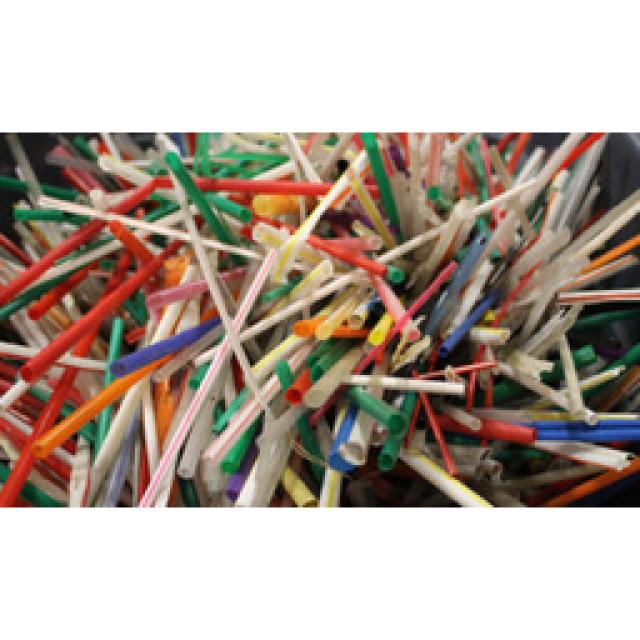plastic: (6, 118, 597, 515)
